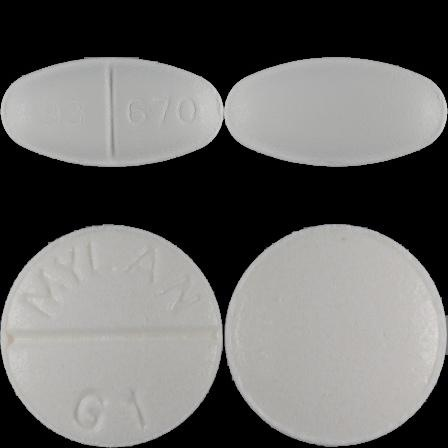76237-168: (0, 0, 224, 224)
